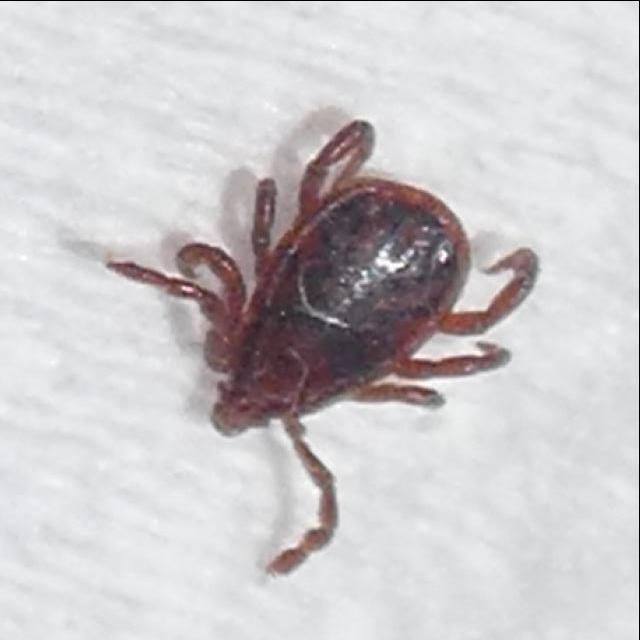Rhipicephalus Sanguineus-M: (106, 119, 544, 577)
